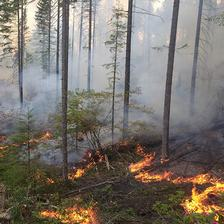fire: (164, 172, 224, 222), (125, 145, 164, 187), (1, 132, 52, 159), (40, 201, 99, 224), (69, 156, 104, 180)
